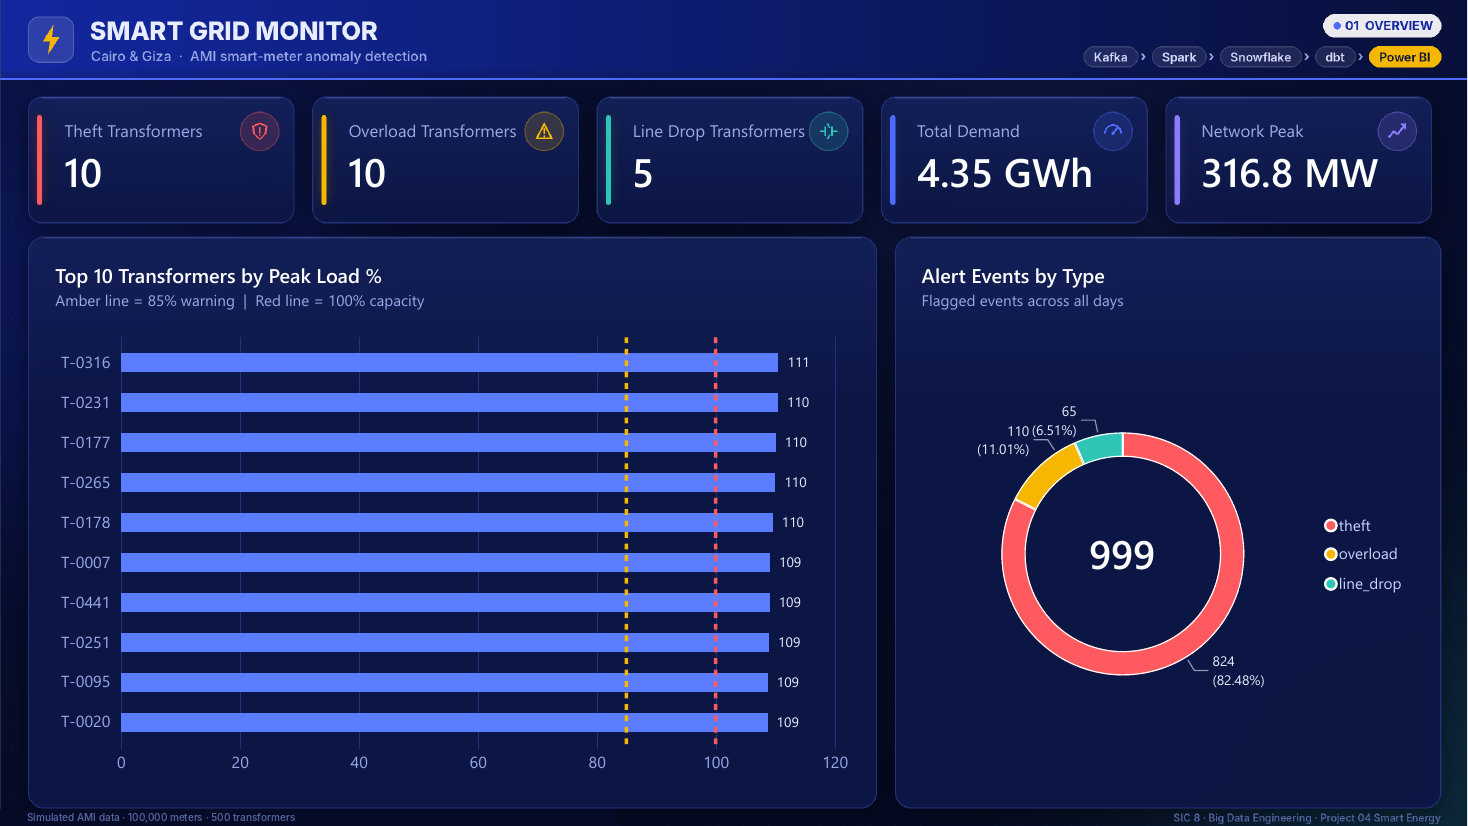

Layout of this report page (visuals, bound fields, positions):
{"tool":"powerbi","page":{"name":"Overview","canvas":[1280,720],"ordinal":0},"visuals":[{"type":"cardVisual","fields":{"Data":["ANOMALY_FLAGS.Theft Transformers"]},"box":[40,88,188,102],"z":0},{"type":"cardVisual","fields":{"Data":["ANOMALY_FLAGS.Overload Transformers"]},"box":[288,88,188,102],"z":1},{"type":"cardVisual","fields":{"Data":["ANOMALY_FLAGS.Line Drop Transformers"]},"box":[536,88,188,102],"z":2},{"type":"cardVisual","fields":{"Data":["ANOMALY_FLAGS.Peak Network MW"]},"box":[1032,88,188,102],"z":4},{"type":"cardVisual","fields":{"Data":["ANOMALY_FLAGS.Total Demand MWh"]},"box":[784,88,188,102],"z":5},{"type":"clusteredBarChart","title":"Top 10 Transformers by Peak Load %","fields":{"Category":["KPI_TRANSFORMER_PEAK.TRANSFORMER_ID"],"Y":["Max(KPI_TRANSFORMER_PEAK.PEAK_LOAD_PERCENTAGE)"]},"box":[32,214,724,482],"z":6},{"type":"donutChart","title":"Alert Events by Type","fields":{"Category":["ANOMALY_FLAGS.EVENT_TYPE"],"Y":["ANOMALY_FLAGS.Alerts"]},"box":[788,214,460,482],"z":7}]}

Visuals, with their boxes in screenshot pixels (x1, y1, x2, y2), scaled from the page's 1280x720 canvas onto the 1468x826 screenshot:
cardVisual - ANOMALY_FLAGS.Theft Transformers: [x1=46, y1=101, x2=261, y2=218]
cardVisual - ANOMALY_FLAGS.Overload Transformers: [x1=330, y1=101, x2=546, y2=218]
cardVisual - ANOMALY_FLAGS.Line Drop Transformers: [x1=615, y1=101, x2=830, y2=218]
cardVisual - ANOMALY_FLAGS.Peak Network MW: [x1=1184, y1=101, x2=1399, y2=218]
cardVisual - ANOMALY_FLAGS.Total Demand MWh: [x1=899, y1=101, x2=1115, y2=218]
"Top 10 Transformers by Peak Load %" clusteredBarChart: [x1=37, y1=246, x2=867, y2=798]
"Alert Events by Type" donutChart: [x1=904, y1=246, x2=1431, y2=798]
